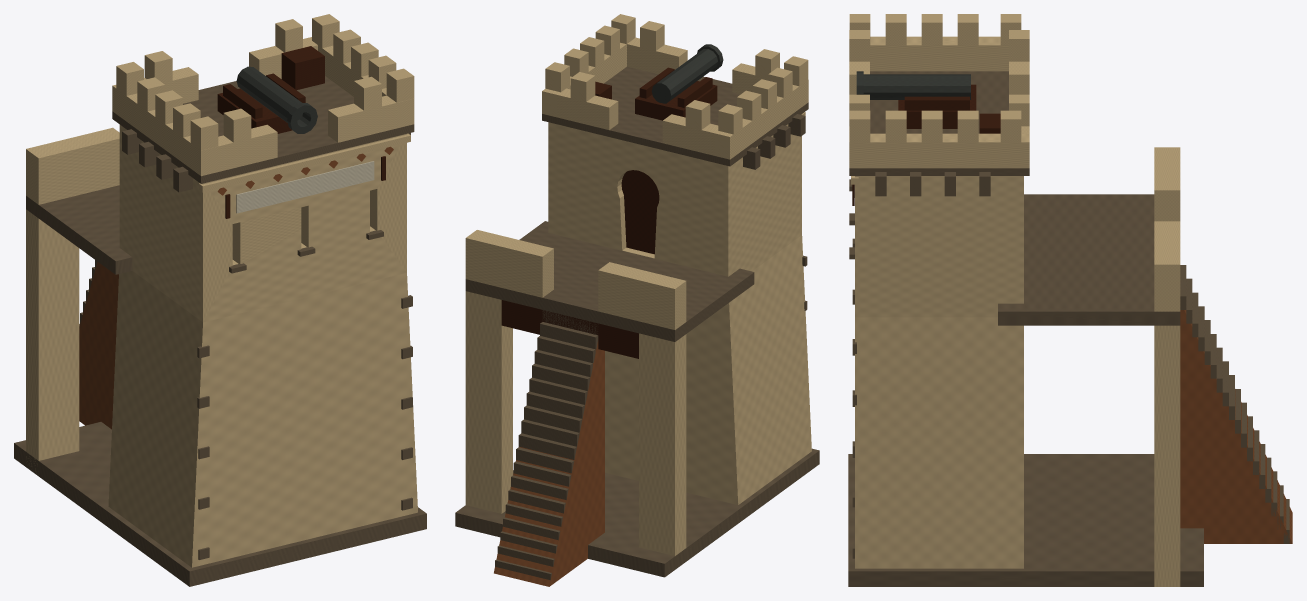
File: Berber_WallTower_Age4_cannon.fbx
3 renders of one model, left to right at view 1: azimuth 30°, elevation 25°; view 2: azimuth 150°, elevation 25°; view 3: azimuth 270°, elevation 25°, orthographic. The views are drawn at different scales.
Visible parts, largest first — view 1: battered_front_tower, front_upper_chamber, rear_support_west, ground_stone_plinth, roof_platform, rear_walk_parapet, stair_ramp_support, through_walk_deck, roof_side_parapet, owner_front_banner, roof_front_split_parapet.001, roof_front_split_parapet (+23 smaller); view 2: battered_front_tower, front_upper_chamber, rear_support_west, through_walk_deck, rear_support_east, ground_stone_plinth, stair_ramp_support, roof_platform, rear_walk_parapet_east, rear_walk_parapet, rear_bearer, rear_horseshoe_chamber_door (+41 smaller); view 3: battered_front_tower, ground_stone_plinth, front_upper_chamber, through_walk_deck, stair_ramp_support, rear_support_east, roof_side_parapet.001, roof_side_parapet, roof_platform, cannon_barrel, rear_walk_parapet_east, rear_walk_parapet (+13 smaller).
Boxes of the visible parts, <box> form: battered_front_tower: <box>108,271,417,567</box>; front_upper_chamber: <box>119,125,406,322</box>; rear_support_west: <box>26,209,79,474</box>; ground_stone_plinth: <box>14,422,426,586</box>; roof_platform: <box>112,76,414,183</box>; rear_walk_parapet: <box>26,127,119,204</box>; stair_ramp_support: <box>79,262,118,429</box>; through_walk_deck: <box>26,185,132,274</box>; roof_side_parapet: <box>112,85,218,176</box>; owner_front_banner: <box>236,161,374,213</box>; roof_front_split_parapet.001: <box>328,95,396,142</box>; roof_front_split_parapet: <box>218,124,277,171</box>; battered_front_tower: <box>605,235,811,504</box>; front_upper_chamber: <box>548,122,801,276</box>; rear_support_west: <box>639,333,686,555</box>; through_walk_deck: <box>465,221,754,341</box>; rear_support_east: <box>465,291,512,513</box>; ground_stone_plinth: <box>455,448,819,577</box>; stair_ramp_support: <box>494,340,604,586</box>; roof_platform: <box>542,66,808,166</box>; rear_walk_parapet_east: <box>465,230,553,297</box>; rear_walk_parapet: <box>598,262,686,329</box>; rear_bearer: <box>501,300,638,358</box>; rear_horseshoe_chamber_door: <box>621,170,659,254</box>; battered_front_tower: <box>855,317,1023,568</box>; ground_stone_plinth: <box>848,454,1203,586</box>; front_upper_chamber: <box>855,176,1023,317</box>; through_walk_deck: <box>998,194,1180,325</box>; stair_ramp_support: <box>1180,310,1292,543</box>; rear_support_east: <box>1154,325,1180,586</box>; roof_side_parapet.001: <box>849,133,1029,168</box>; roof_side_parapet: <box>870,36,1008,71</box>; roof_platform: <box>849,71,1029,175</box>; cannon_barrel: <box>863,74,970,99</box>; rear_walk_parapet_east: <box>1154,221,1180,311</box>; rear_walk_parapet: <box>1154,147,1180,221</box>.
Bounding box in the file's own units: 640 × 1174 × 1024.
Materials: 7 (7 with a texture image).
